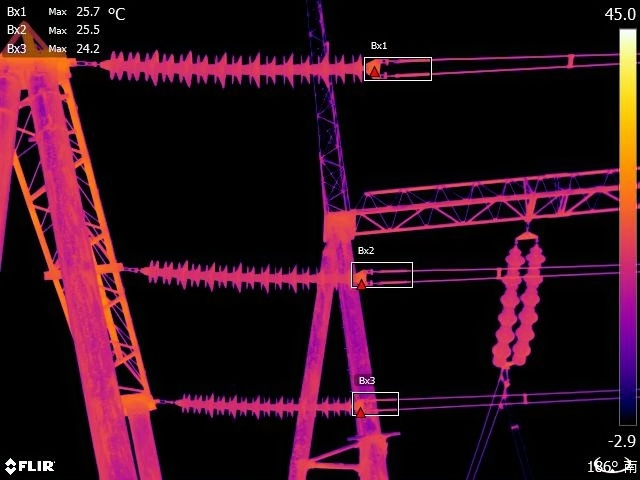insulator: (91, 45, 370, 84), (485, 236, 551, 374), (134, 253, 343, 295), (177, 384, 350, 423)
